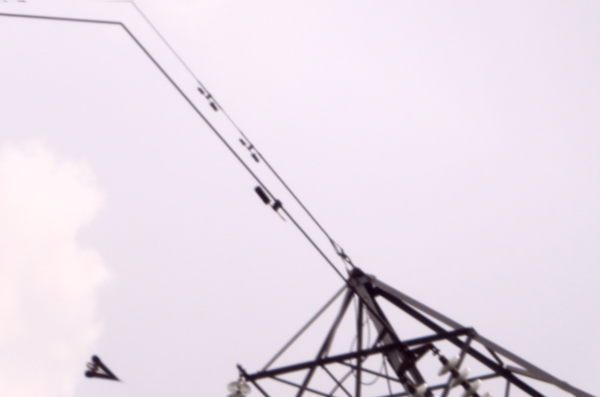damper: (237, 135, 260, 164), (197, 84, 218, 111)
damper_defect: (251, 183, 290, 224)
